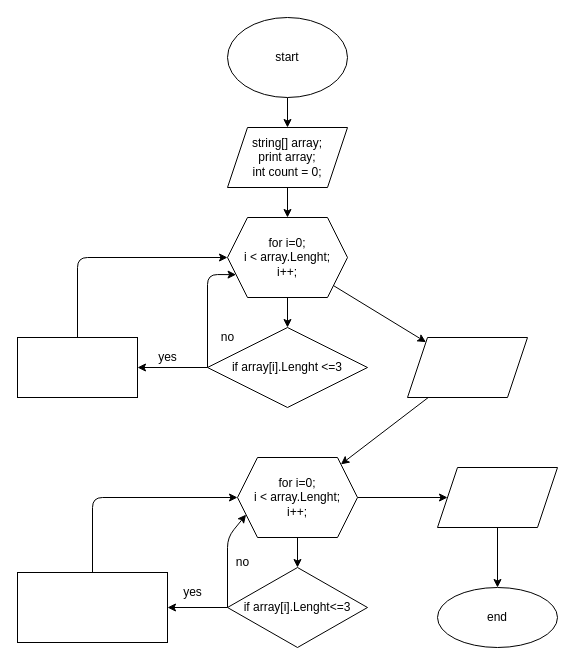
This 575x665 diagram has some shape labels left out. Here are the shapes that lost their labels. From the top down, the centre of each, then its label:
the point at 77,367: count++
the point at 467,367: string[count] newArray
the point at 497,497: print newArray
the point at 92,607: newArray[newArray.Lenght - count] = array[i]; count--;
